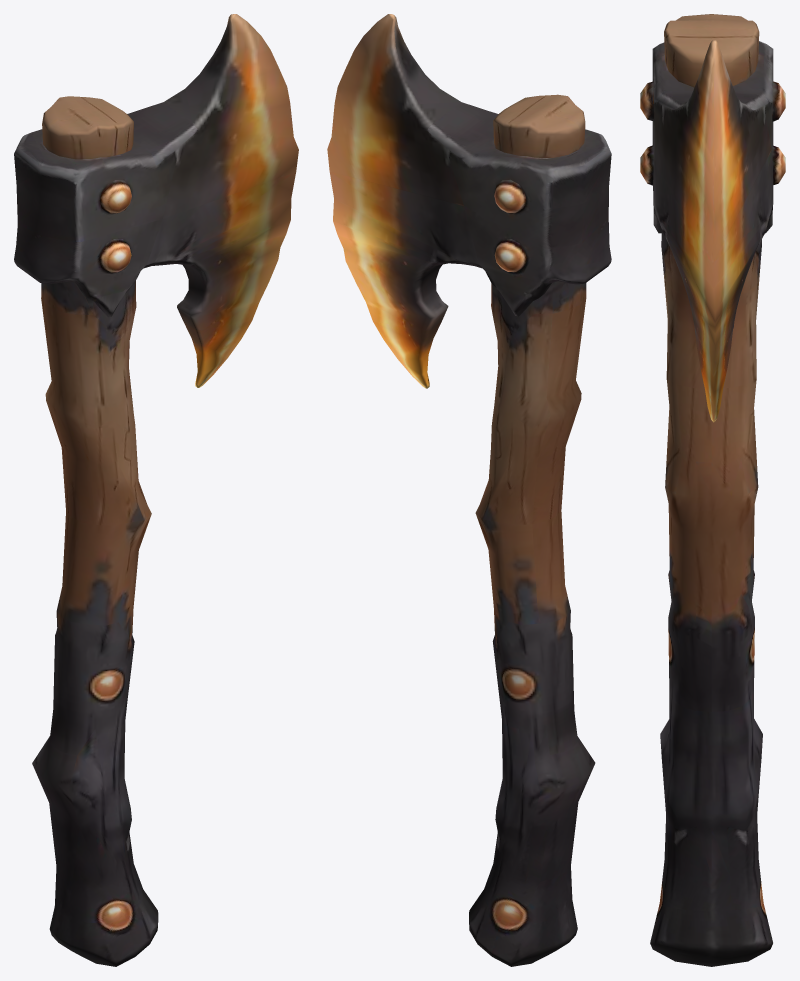
The model's file is emberbite.glb.
The picture shows the model from 3 angles, left to right: view 1: azimuth 30°, elevation 25°; view 2: azimuth 150°, elevation 25°; view 3: azimuth 270°, elevation 25°; orthographic projection. The views are drawn at different scales.
Parts seen in each view (by area): view 1: tripo_node_670f355e-ed30-490e-b244-76fc3ea89972; view 2: tripo_node_670f355e-ed30-490e-b244-76fc3ea89972; view 3: tripo_node_670f355e-ed30-490e-b244-76fc3ea89972.
Boxes of the visible parts, x1=… form: tripo_node_670f355e-ed30-490e-b244-76fc3ea89972: x1=14, y1=14, x2=298, y2=966; tripo_node_670f355e-ed30-490e-b244-76fc3ea89972: x1=327, y1=14, x2=611, y2=966; tripo_node_670f355e-ed30-490e-b244-76fc3ea89972: x1=640, y1=14, x2=785, y2=966.
Size of the model in its own units: 0.4541 by 1.45 by 0.192.
Materials: 1 (1 with a texture image).
